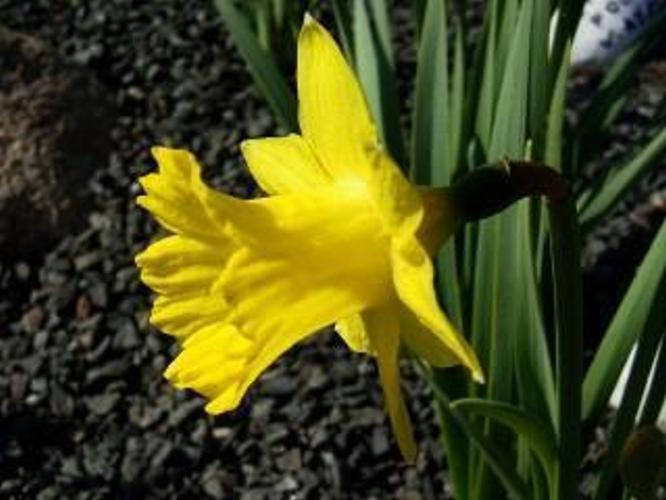flower1: (132, 14, 485, 466)
